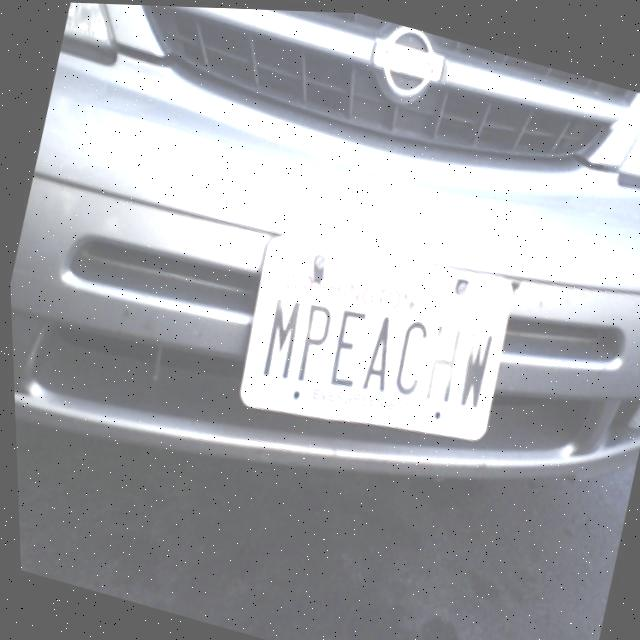license_plate: (234, 228, 515, 436)
